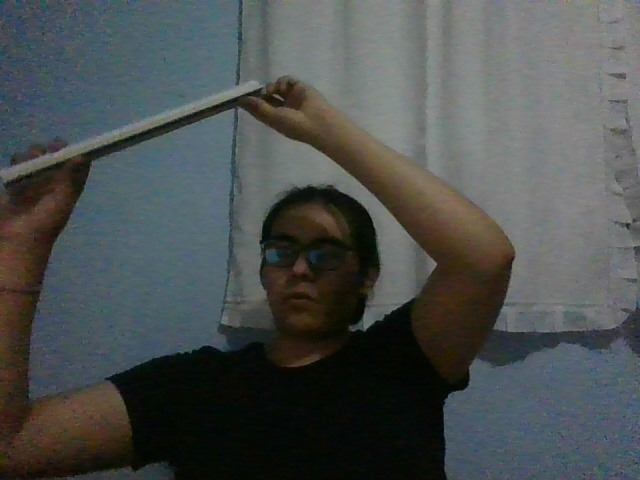regla: (1, 80, 266, 191)
